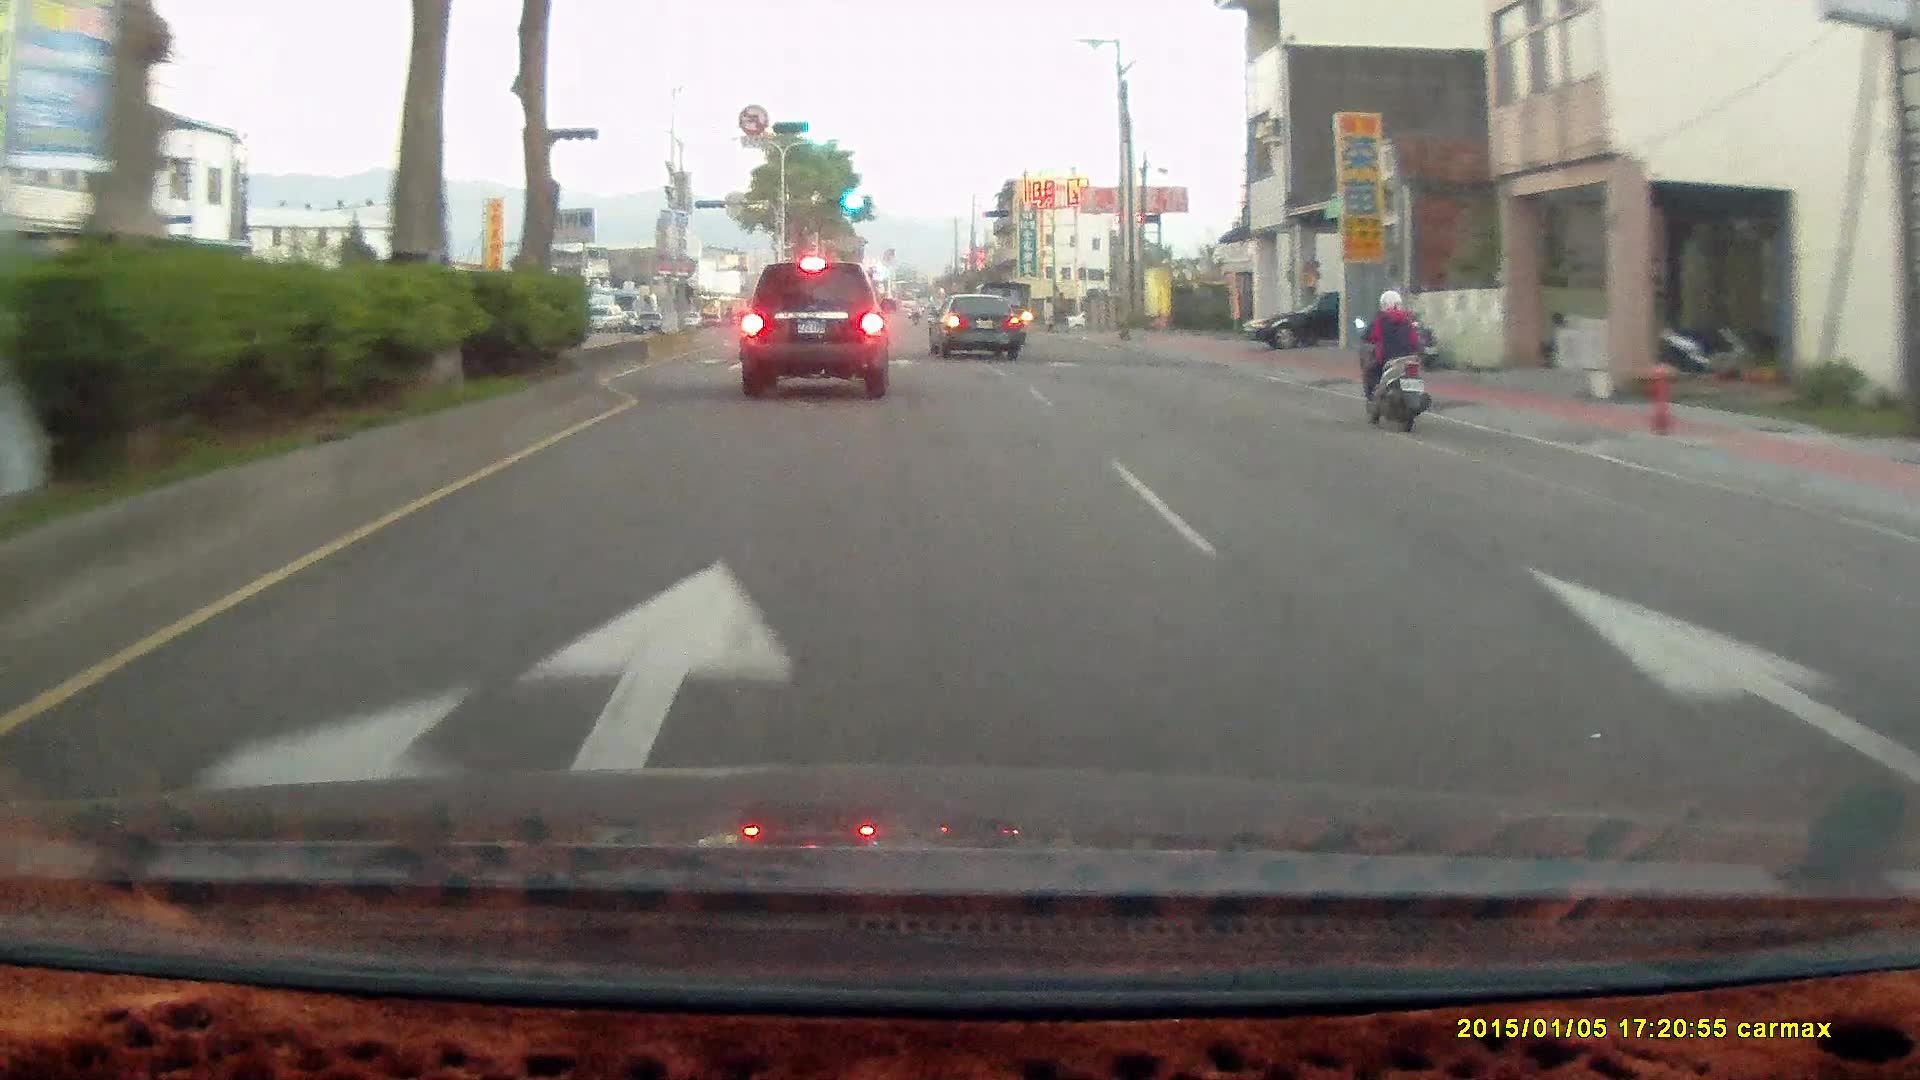rider: (1346, 275, 1444, 442), (1353, 287, 1431, 433)
vehicle: (731, 261, 889, 406), (741, 263, 896, 398), (1244, 289, 1423, 347), (931, 294, 1023, 360), (927, 292, 1018, 358), (1245, 291, 1347, 350), (585, 303, 624, 333)
